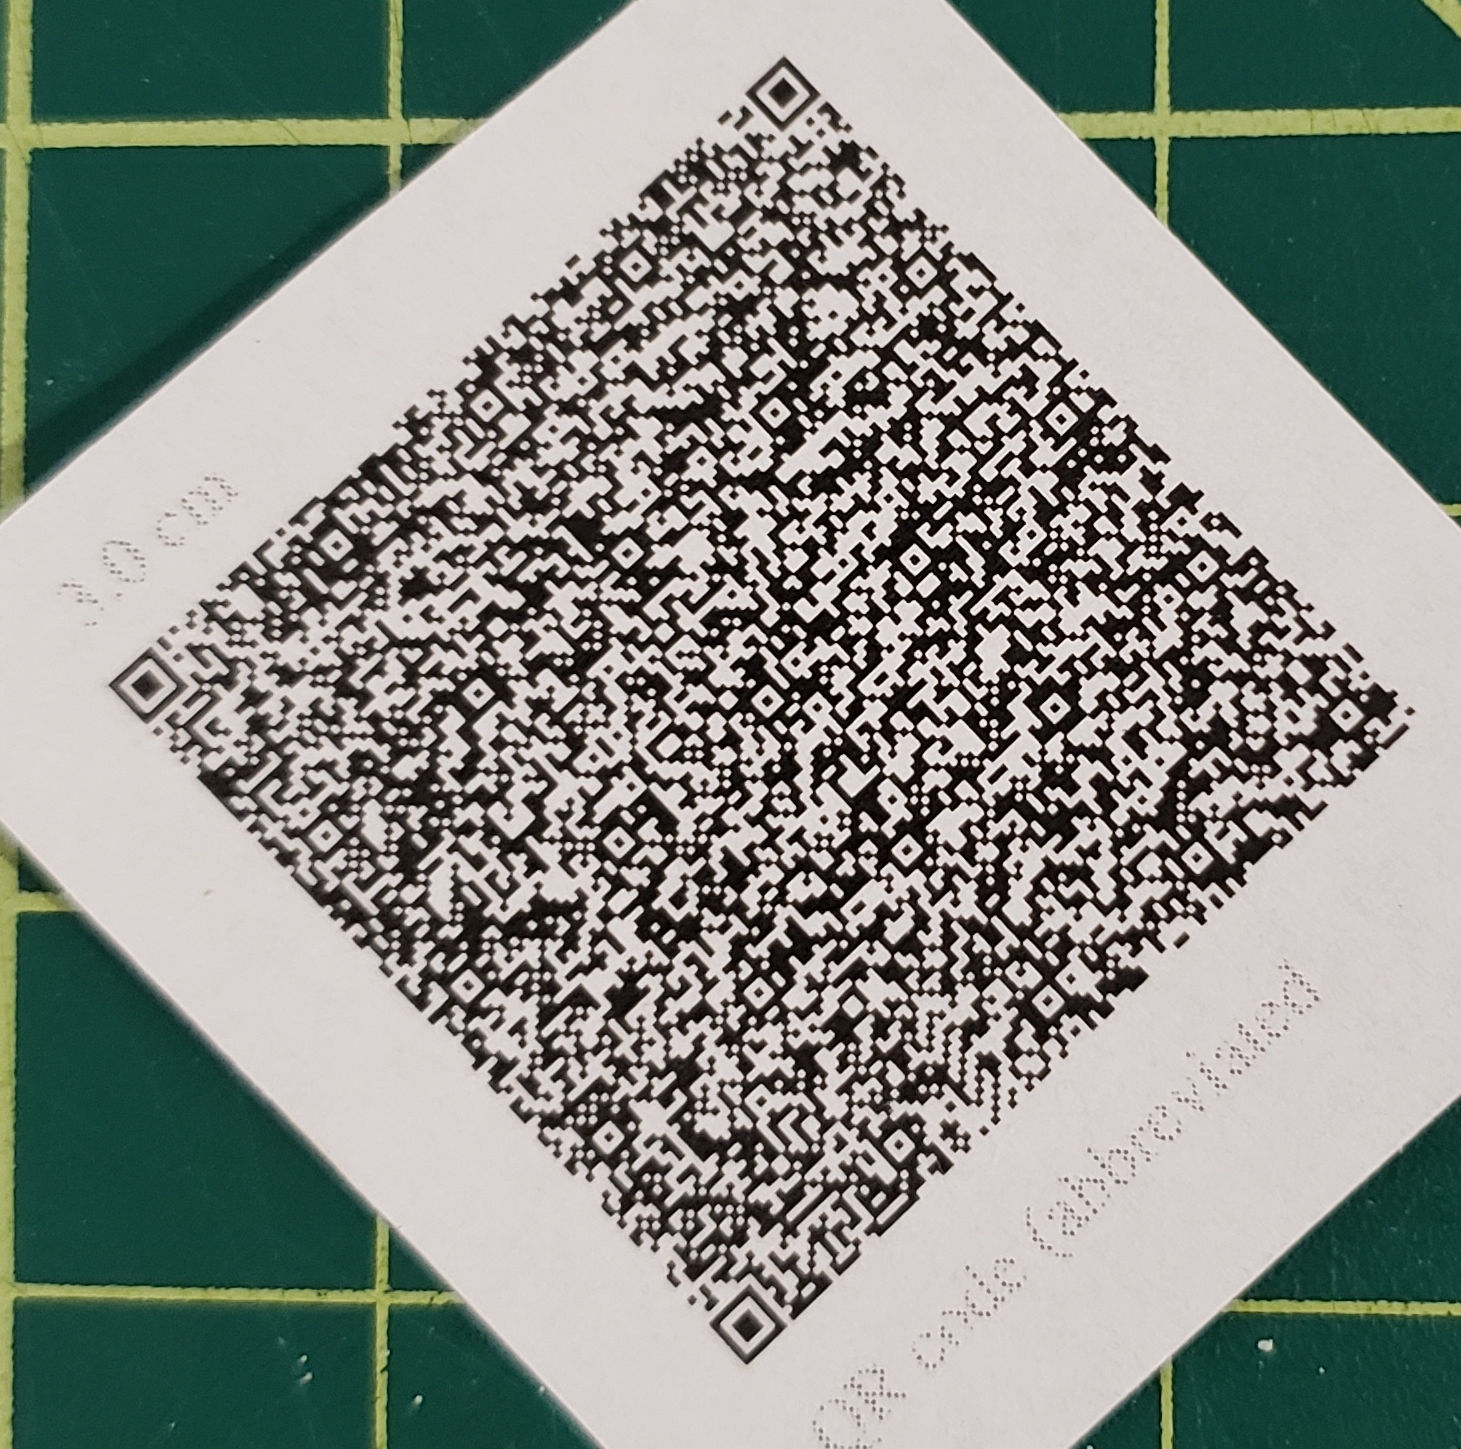QR_CODE: (82, 27, 1437, 1381)
